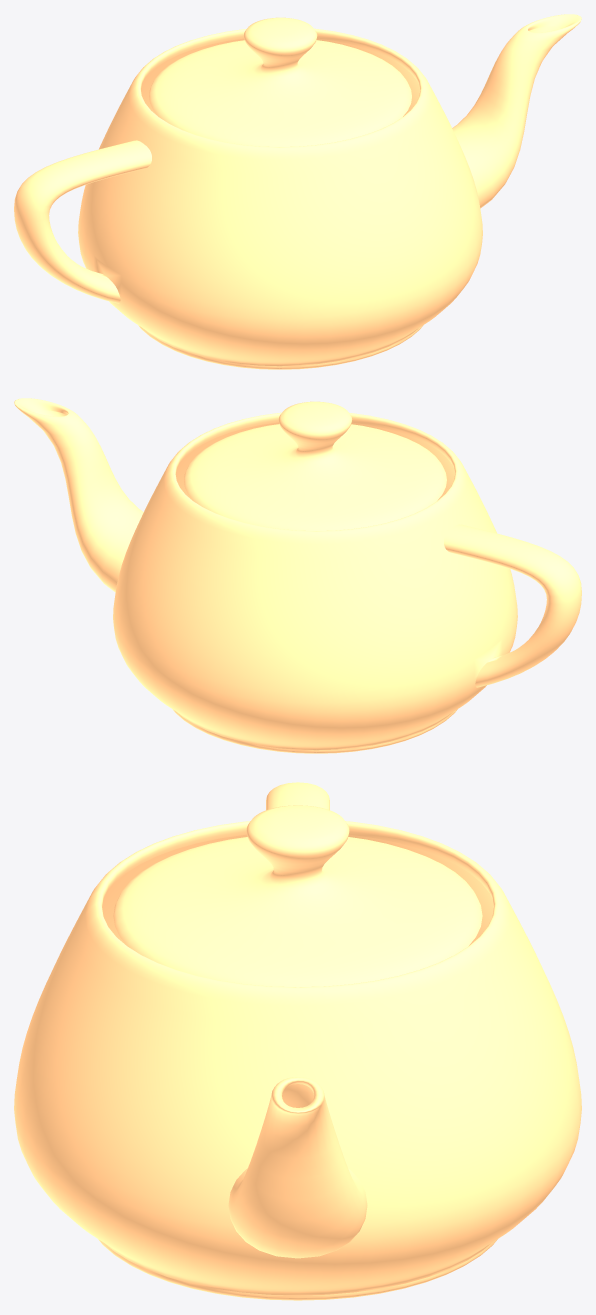
3 views of the same model, one above another, from view 1: azimuth 30°, elevation 25°; view 2: azimuth 150°, elevation 25°; view 3: azimuth 270°, elevation 25° (orthographic). The views are drawn at different scales.
Visible parts, largest first — view 1: Teapot; view 2: Teapot; view 3: Teapot.
Boxes of the visible parts, box(x1,y1,x2,y2) form: Teapot: box(14, 14, 581, 369); Teapot: box(14, 398, 581, 753); Teapot: box(14, 782, 581, 1300).
Bounding box in the file's own units: 64.34 × 31.5 × 40.
